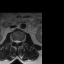CCS_normal: (16, 38, 18, 46)
LFS_normal: (19, 38, 21, 44)
LLS_normal: (18, 38, 19, 44)
RFS_normal: (13, 38, 14, 44)
RLS_normal: (14, 38, 16, 44)
